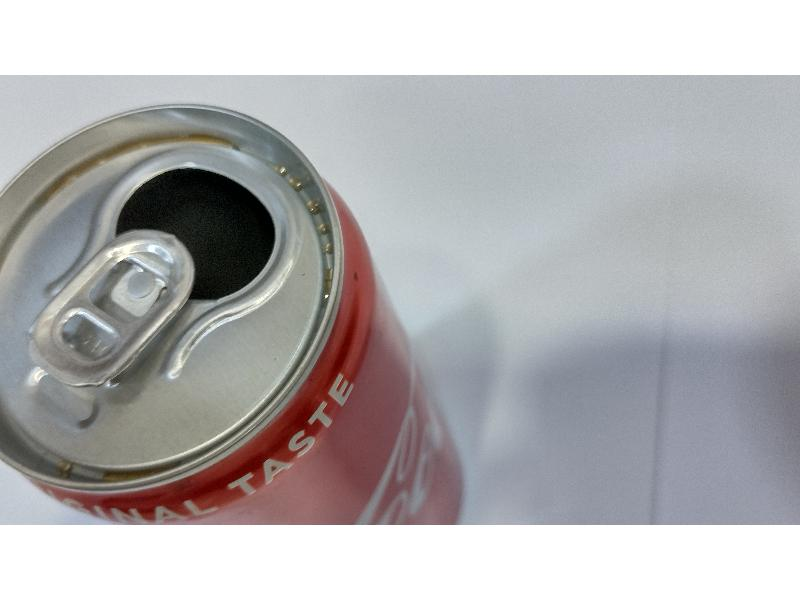can: (2, 98, 465, 520)
